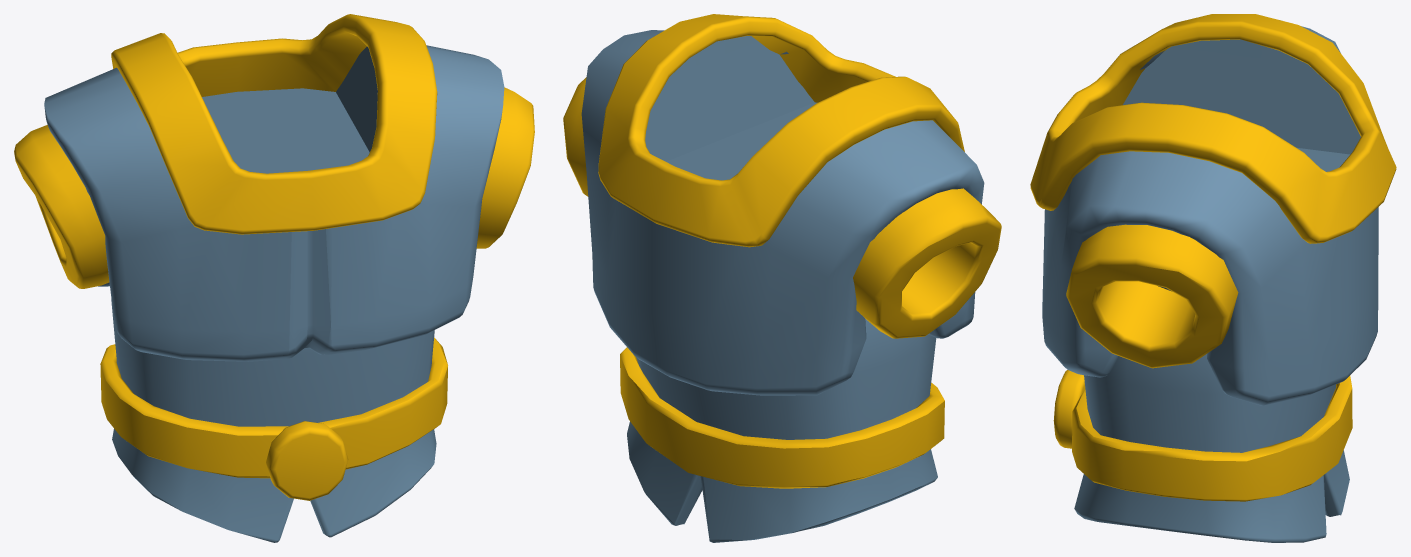
3 renders of one model, left to right at view 1: azimuth 30°, elevation 25°; view 2: azimuth 150°, elevation 25°; view 3: azimuth 270°, elevation 25°, orthographic.
Parts seen in each view (by area): view 1: model_1.037; view 2: model_1.037; view 3: model_1.037.
Boxes of the visible parts, box(x1,y1,x2,y2) form: model_1.037: box(14, 14, 534, 542); model_1.037: box(563, 14, 1001, 542); model_1.037: box(1030, 14, 1396, 542).
Size of the model in its own units: 4.94 by 4.73 by 3.49.
